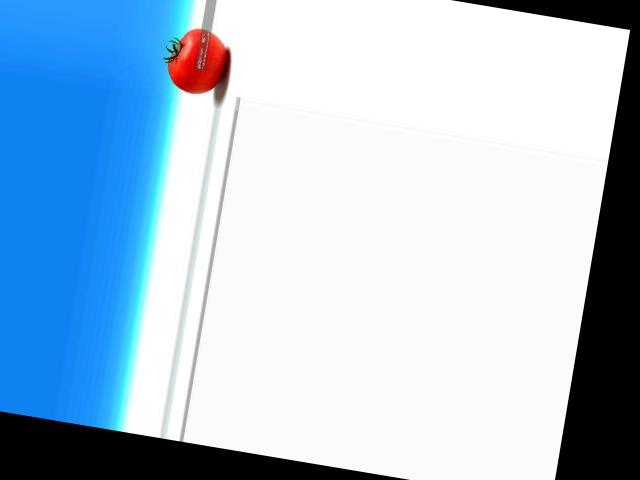tomato: (164, 23, 230, 97)
